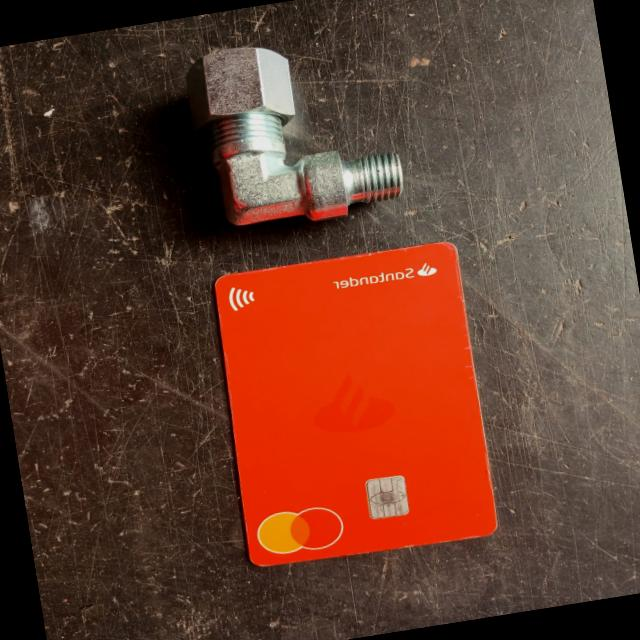cartao: (206, 239, 500, 572)
rosca_externa: (180, 25, 409, 236)
